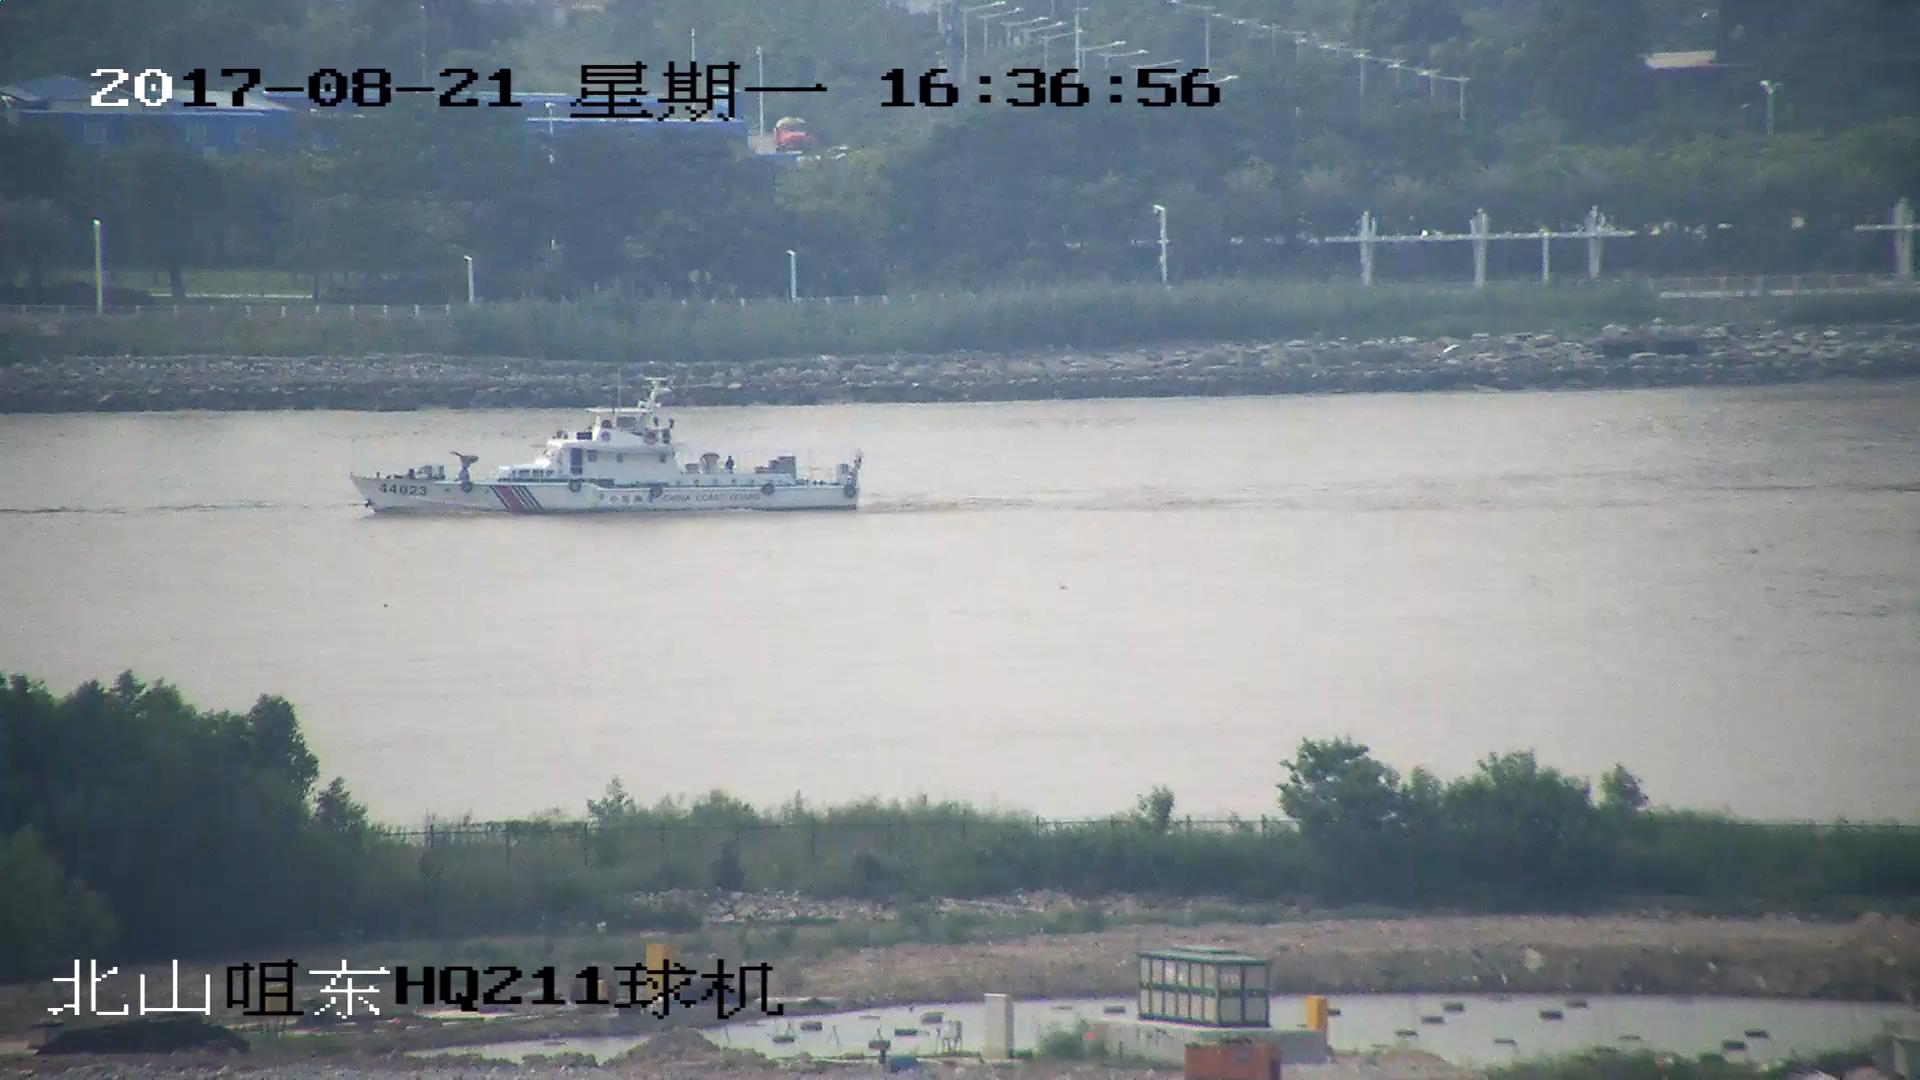passenger ship: (348, 377, 862, 517)
